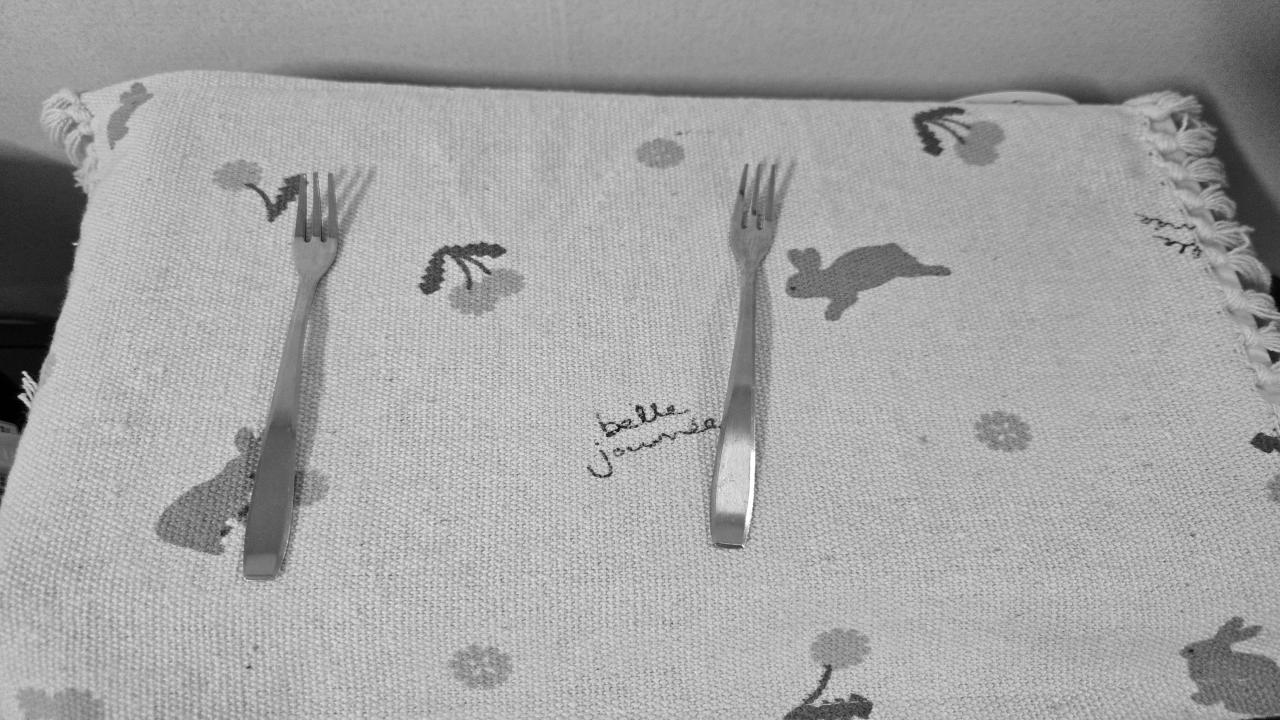fork: (238, 174, 345, 588), (708, 156, 781, 552)
